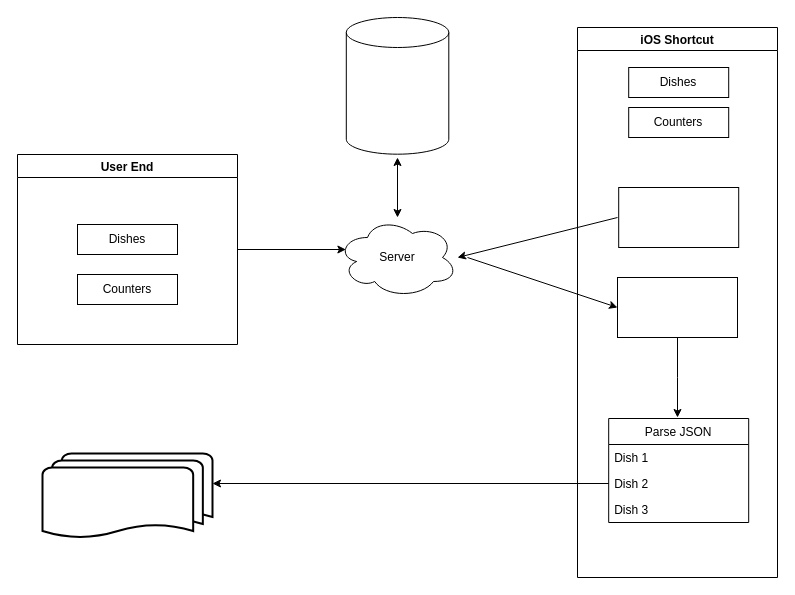
The diagram is 795 pixels wide and 595 high, and some of its shapes have lost their labels. The centre of each missing label's shape, as x and y in pixels:
Notifications: the point at 127,495
Receive JSON: the point at 677,307
Send Request: the point at 678,217
Server Database: the point at 397,85
